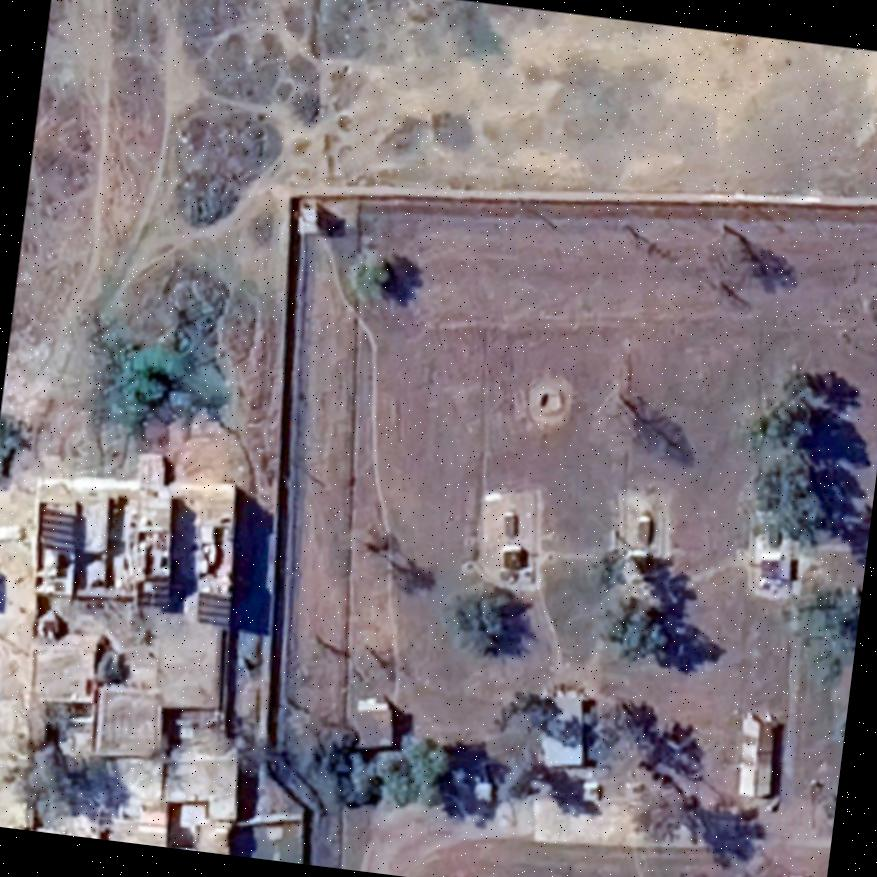Solarpanel: (30, 502, 84, 558), (192, 587, 236, 631)
